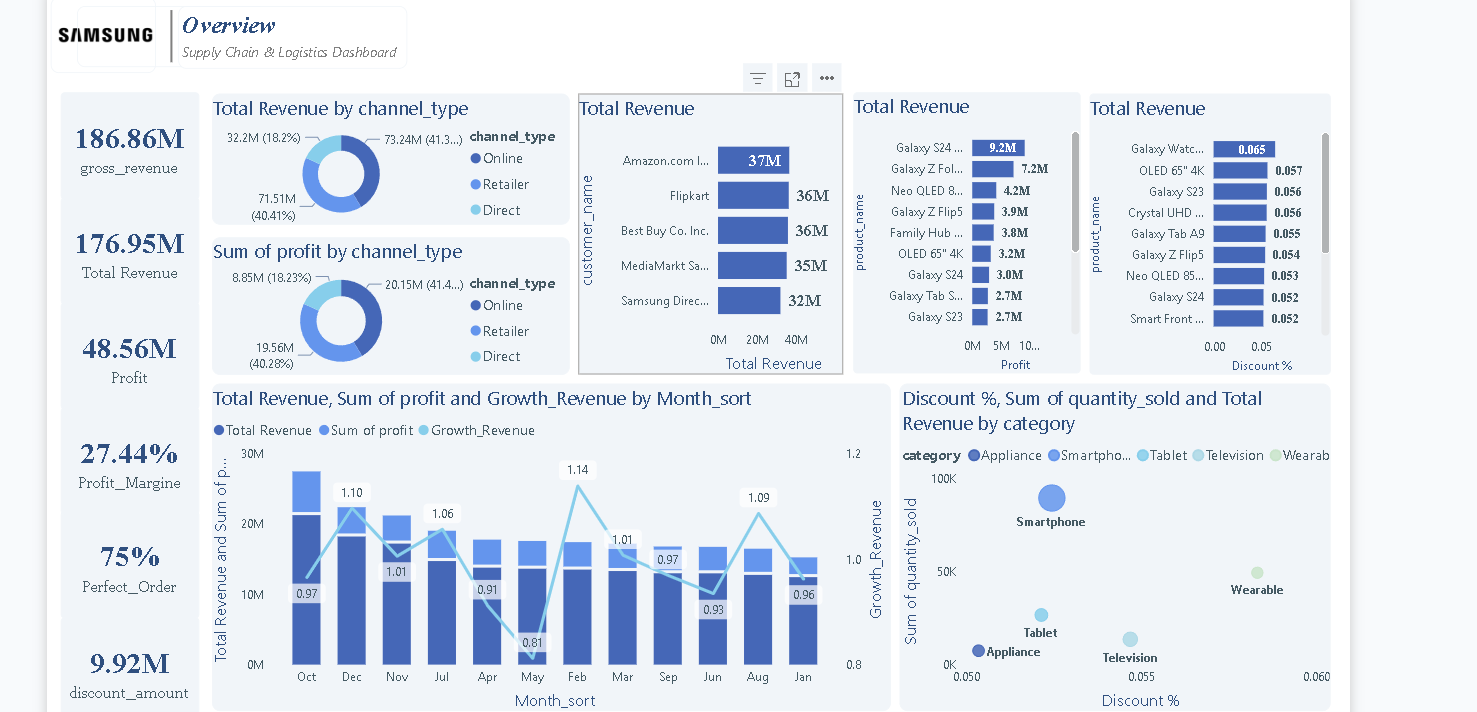

This screenshot's page, from the dashboard's own definition file:
{"tool":"powerbi","page":{"name":"Customer","canvas":[1280,720],"ordinal":5},"visuals":[{"type":"image","box":[3.7,6.2,103.2,74.6],"z":0},{"type":"shape","box":[29.9,14.9,185.3,59.7],"z":1000},{"type":"shape","title":"Overview","box":[128.8,14.7,224.5,61.4],"z":2000},{"type":"card","fields":{"Values":["MeasuresTable.Total_Revenue"]},"box":[13,202,135.6,105.3],"z":3000},{"type":"card","fields":{"Values":["MeasuresTable.Profit"]},"box":[13,305.9,135.6,105.3],"z":4000},{"type":"card","fields":{"Values":["MeasuresTable.Perfect_Order"]},"box":[13,510.7,135.6,105.3],"z":5000},{"type":"card","fields":{"Values":["MeasuresTable.Profit_Margine"]},"box":[13,408.3,135.6,105.3],"z":6000},{"type":"card","fields":{"Values":["Sum(fact_sales.discount_amount)"]},"box":[13,614.6,135.6,105.3],"z":7000},{"type":"card","fields":{"Values":["Sum(fact_sales.gross_revenue)"]},"box":[13,99.6,135.6,105.3],"z":8000},{"type":"clusteredBarChart","title":"Total Revenue ","fields":{"Category":["dim_customer.customer_name"],"Y":["MeasuresTable.Total Revenue"]},"box":[521.5,100.6,260.1,276.1],"z":9000},{"type":"donutChart","fields":{"Category":["dim_customer.channel_type"],"Y":["MeasuresTable.Total Revenue"]},"box":[162,100.6,350.9,128.8],"z":10000},{"type":"donutChart","fields":{"Category":["dim_customer.channel_type"],"Y":["Sum(fact_sales.profit)"]},"box":[162,241.7,350.9,135],"z":11000},{"type":"clusteredBarChart","title":"Total Revenue ","fields":{"Y":["MeasuresTable.Profit"],"Category":["dim_product.product_name"]},"box":[791.4,99.4,223.3,276.1],"z":12000},{"type":"lineStackedColumnComboChart","fields":{"Category":["dim_date.Month_sort"],"Y":["MeasuresTable.Total Revenue","Sum(fact_sales.profit)"],"Y2":["MeasuresTable.Growth_Revenue"]},"box":[162,385.3,666.3,321.5],"z":13000},{"type":"scatterChart","fields":{"X":["MeasuresTable.Discount %"],"Y":["Sum(fact_sales.quantity_sold)"],"Series":["dim_product.category"],"Size":["MeasuresTable.Total Revenue"]},"box":[836.8,385.3,423.3,321.5],"z":14000},{"type":"clusteredBarChart","title":"Total Revenue ","fields":{"Category":["dim_product.product_name"],"Y":["MeasuresTable.Discount %"]},"box":[1023.3,100.6,236.8,276.1],"z":15000}]}

Visuals, with their boxes on the page's 1280x720 design canvas (x1, y1, x2, y2). These are canvas units, not pixel positions in the 1477x712 screenshot, which may show the page scaled, cropped or inside an application window:
image: box(4, 6, 107, 81)
shape: box(30, 15, 215, 75)
"Overview" shape: box(129, 15, 353, 76)
card - MeasuresTable.Total_Revenue: box(13, 202, 149, 307)
card - MeasuresTable.Profit: box(13, 306, 149, 411)
card - MeasuresTable.Perfect_Order: box(13, 511, 149, 616)
card - MeasuresTable.Profit_Margine: box(13, 408, 149, 514)
card - Sum(fact_sales.discount_amount): box(13, 615, 149, 720)
card - Sum(fact_sales.gross_revenue): box(13, 100, 149, 205)
"Total Revenue " clusteredBarChart: box(522, 101, 782, 377)
donutChart - dim_customer.channel_type x MeasuresTable.Total Revenue: box(162, 101, 513, 229)
donutChart - dim_customer.channel_type x Sum(fact_sales.profit): box(162, 242, 513, 377)
"Total Revenue " clusteredBarChart: box(791, 99, 1015, 376)
lineStackedColumnComboChart - dim_date.Month_sort x MeasuresTable.Total Revenue: box(162, 385, 828, 707)
scatterChart - MeasuresTable.Discount % x Sum(fact_sales.quantity_sold): box(837, 385, 1260, 707)
"Total Revenue " clusteredBarChart: box(1023, 101, 1260, 377)
